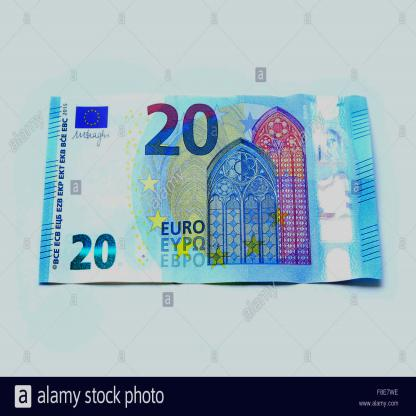euro_banknote: (38, 95, 383, 286)
